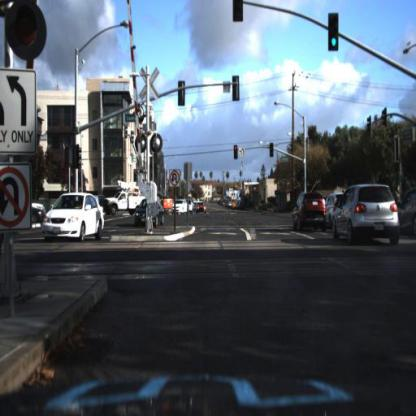biker: (275, 198, 280, 214)
car: (330, 183, 401, 246), (42, 191, 106, 244), (292, 186, 328, 234), (319, 184, 344, 228), (134, 195, 163, 228), (400, 184, 414, 248), (135, 198, 164, 225), (172, 198, 190, 214), (193, 200, 208, 216), (197, 202, 207, 216), (187, 200, 195, 214)
trafficLight: (8, 4, 53, 69), (329, 13, 339, 51), (233, 1, 243, 25), (269, 141, 276, 158), (234, 141, 239, 162)
trafficLight-Green: (300, 163, 306, 183)
truck: (104, 183, 147, 217)
